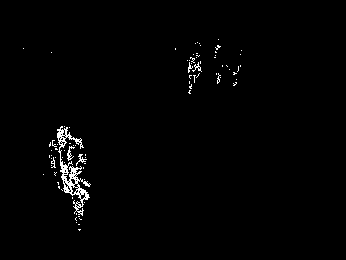person: (46, 125, 92, 232)
